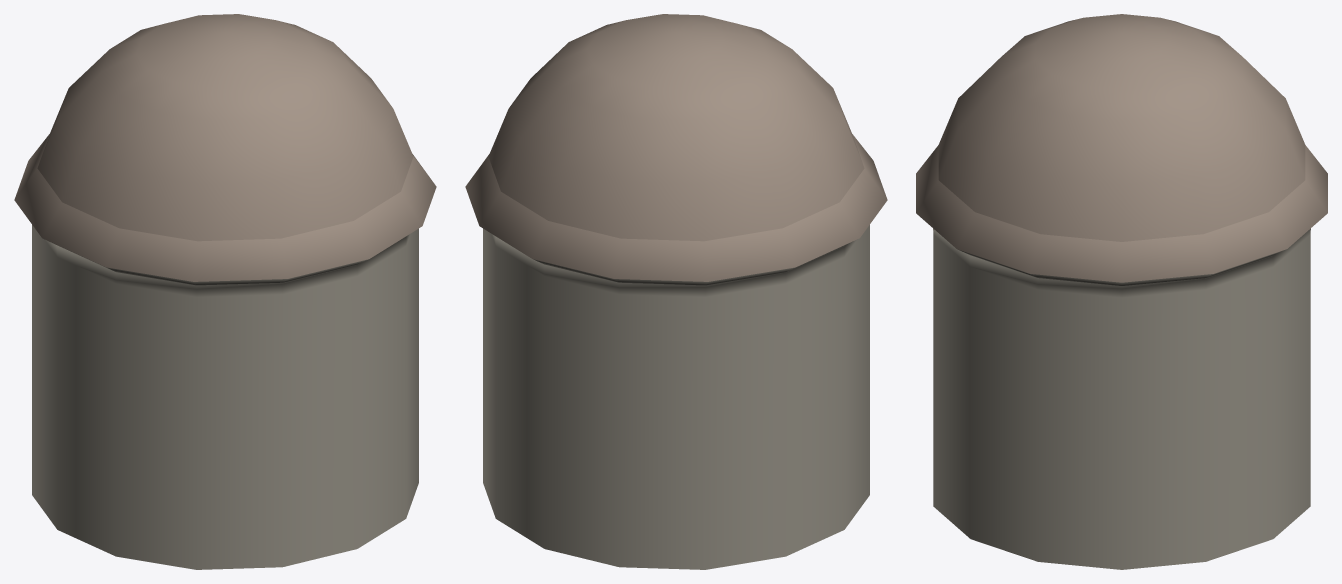
The model's file is suppo.fbx.
The picture shows the model from 3 angles, left to right: view 1: azimuth 30°, elevation 25°; view 2: azimuth 150°, elevation 25°; view 3: azimuth 270°, elevation 25°; orthographic projection.
Parts seen in each view (by area): view 1: supo; view 2: supo; view 3: supo.
Part boxes in pixels (x1,y1,x2,y2): supo: (14, 14, 436, 569); supo: (465, 14, 887, 569); supo: (916, 14, 1327, 569).
Bounding box in the file's own units: 2.18 × 2.59 × 2.13.
